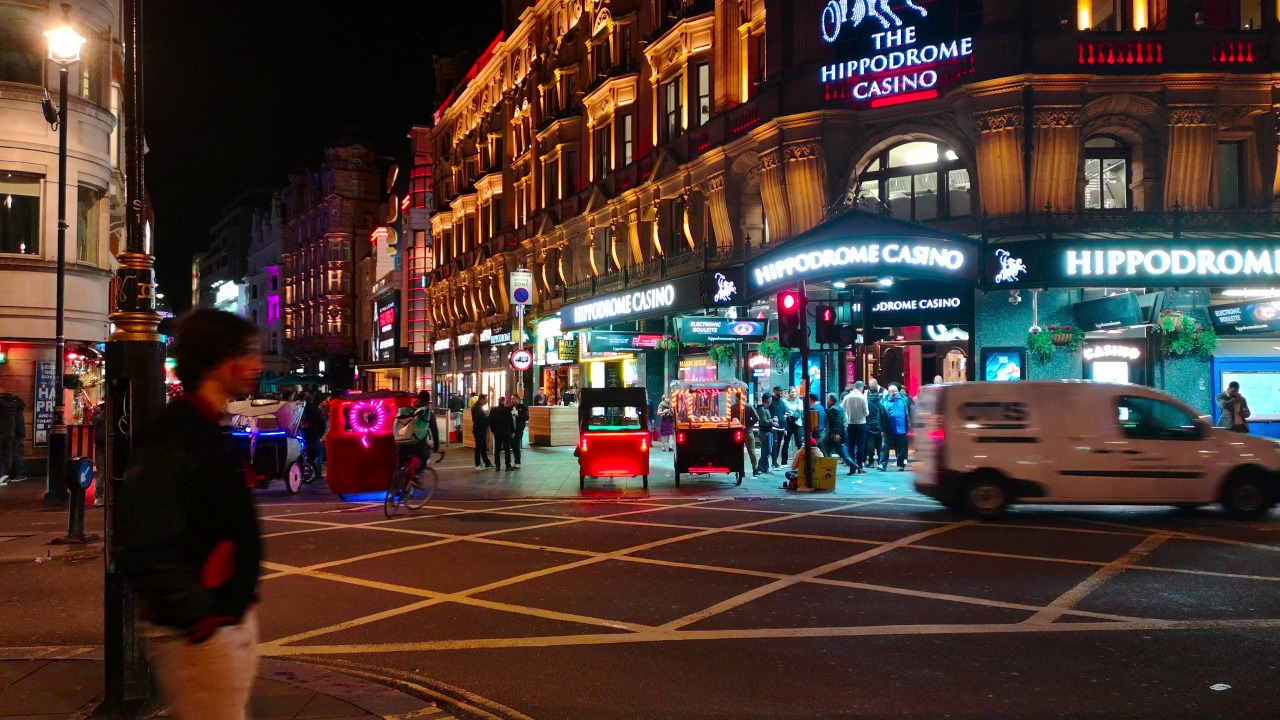car: (911, 379, 1280, 523), (327, 391, 420, 499), (669, 384, 747, 487), (578, 389, 649, 493), (237, 400, 308, 494)
person: (158, 306, 280, 720), (388, 389, 443, 514), (1, 385, 31, 489), (731, 387, 762, 477), (823, 388, 855, 475), (883, 381, 911, 470), (1210, 375, 1254, 428), (784, 435, 823, 493), (302, 397, 328, 483), (91, 398, 111, 508), (490, 395, 515, 474), (848, 376, 867, 477), (472, 395, 492, 472), (864, 389, 883, 469), (509, 396, 529, 471), (758, 391, 774, 478), (802, 388, 826, 446), (770, 382, 785, 471), (659, 393, 679, 453), (787, 383, 797, 464), (449, 388, 462, 431), (530, 384, 549, 407), (864, 376, 884, 396)
